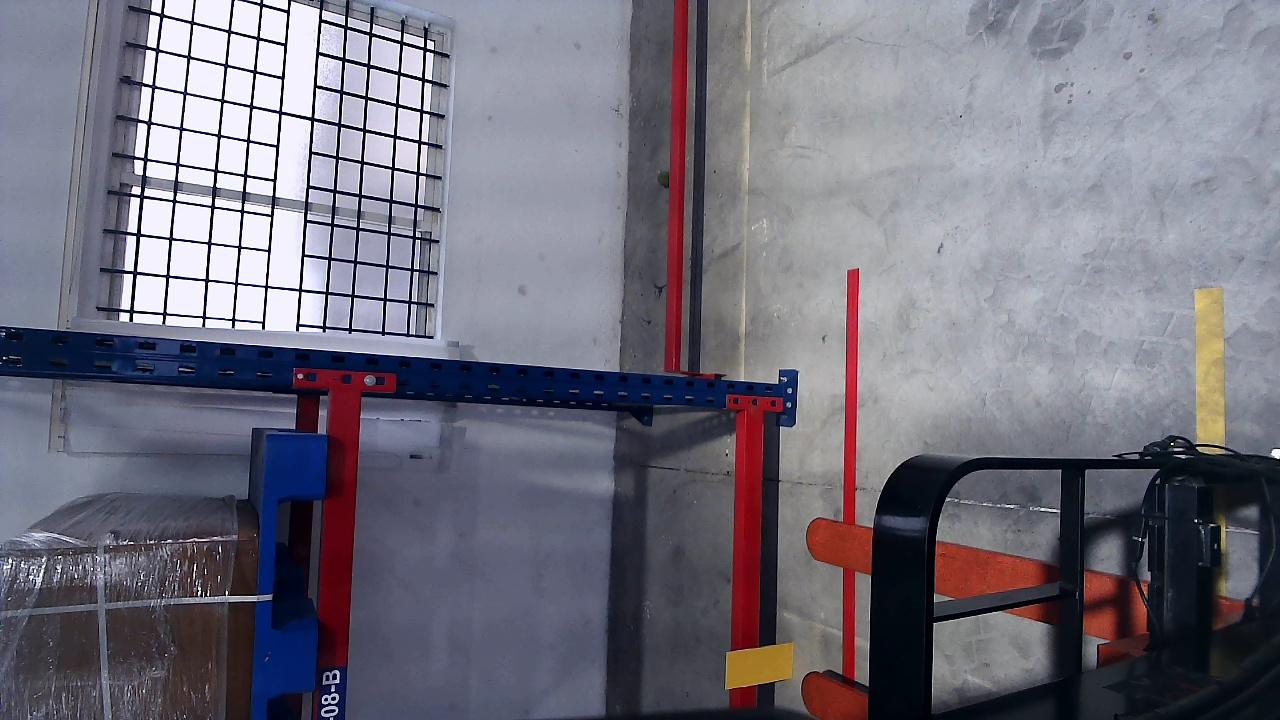h_rack: (312, 390, 363, 718), (731, 408, 768, 709)
orange_strip: (725, 642, 795, 689)
red_line: (842, 268, 862, 518)
small_pallet: (249, 435, 328, 718)
yellow_line: (1193, 286, 1226, 447)
